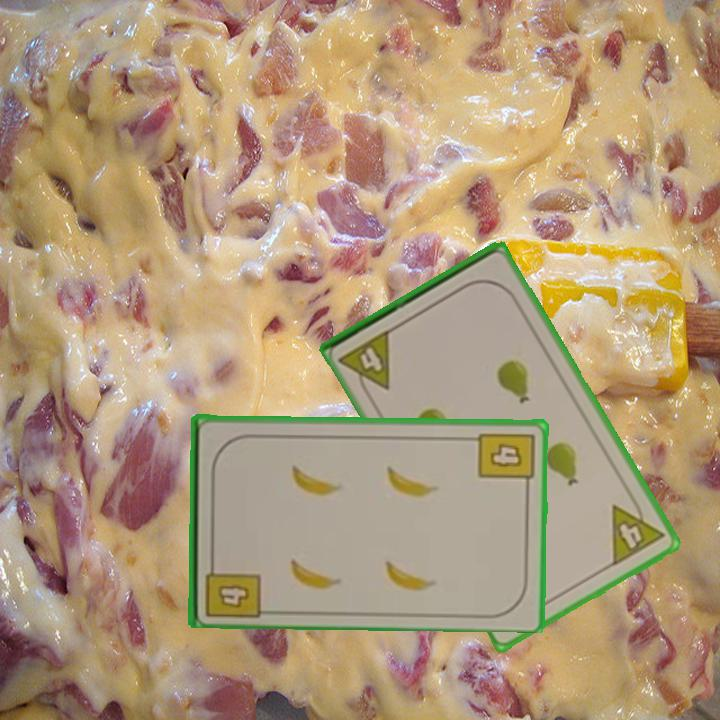4b: (201, 554, 263, 620), (475, 429, 536, 492)
4p: (608, 491, 668, 569), (335, 325, 394, 401)
